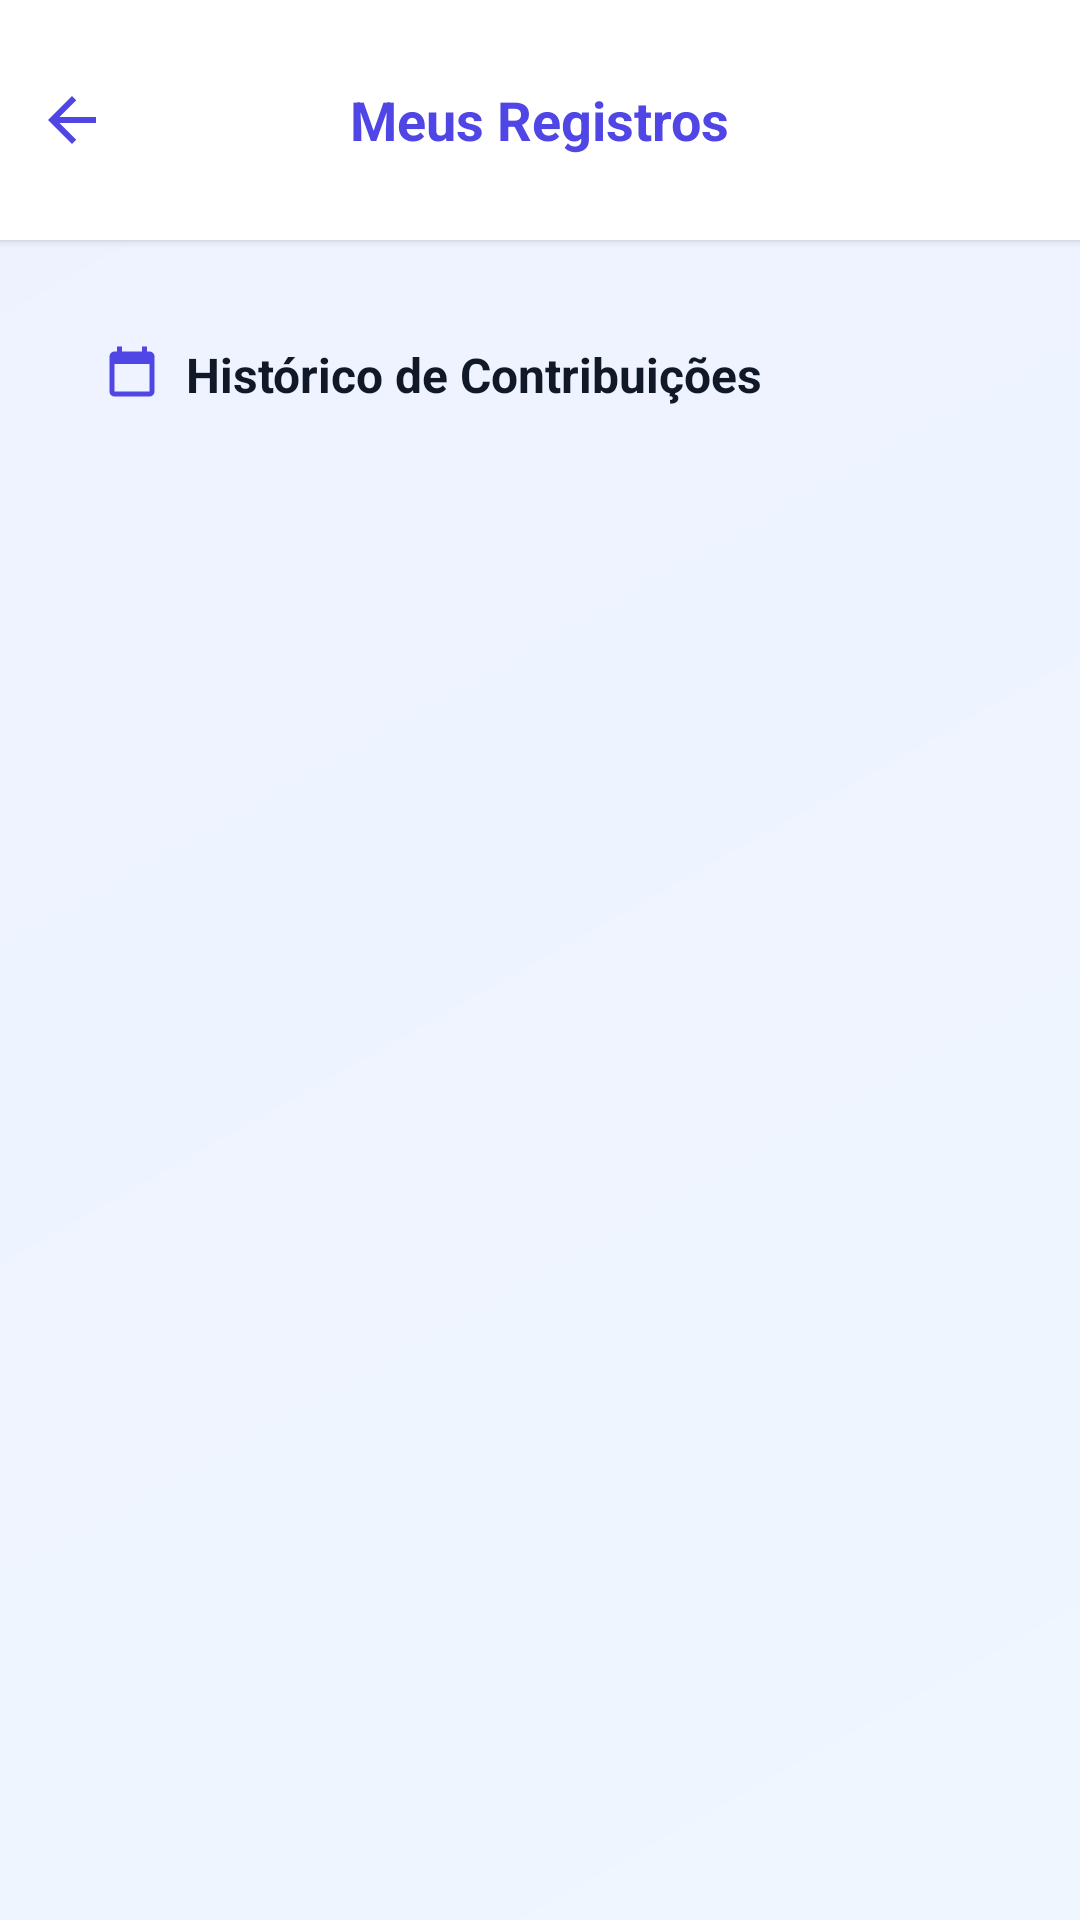

Where to tap for icons on this 1080*1920 app screen, as (x,y):
calendar: (132,371)
Voltar: (72,120)
